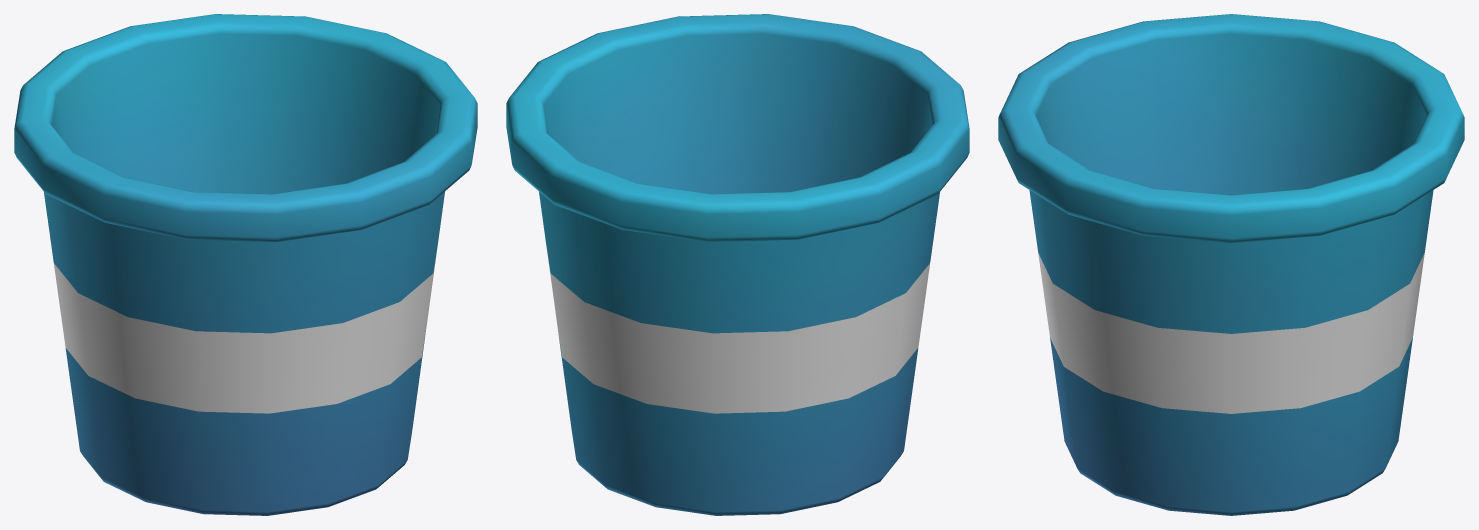
The model's file is Bucket_Blue.fbx.
3 views of the same model, side by side, from view 1: azimuth 30°, elevation 25°; view 2: azimuth 150°, elevation 25°; view 3: azimuth 270°, elevation 25° (orthographic).
Parts seen in each view (by area): view 1: Bucket_Blue; view 2: Bucket_Blue; view 3: Bucket_Blue.
Boxes of the visible parts, x1,y1,x2,y2 form: Bucket_Blue: (14, 14, 477, 515); Bucket_Blue: (506, 14, 969, 515); Bucket_Blue: (998, 14, 1464, 515).
Size of the model in its own units: 53.07 by 42.71 by 53.07.
Materials: 1 (1 with a texture image).
